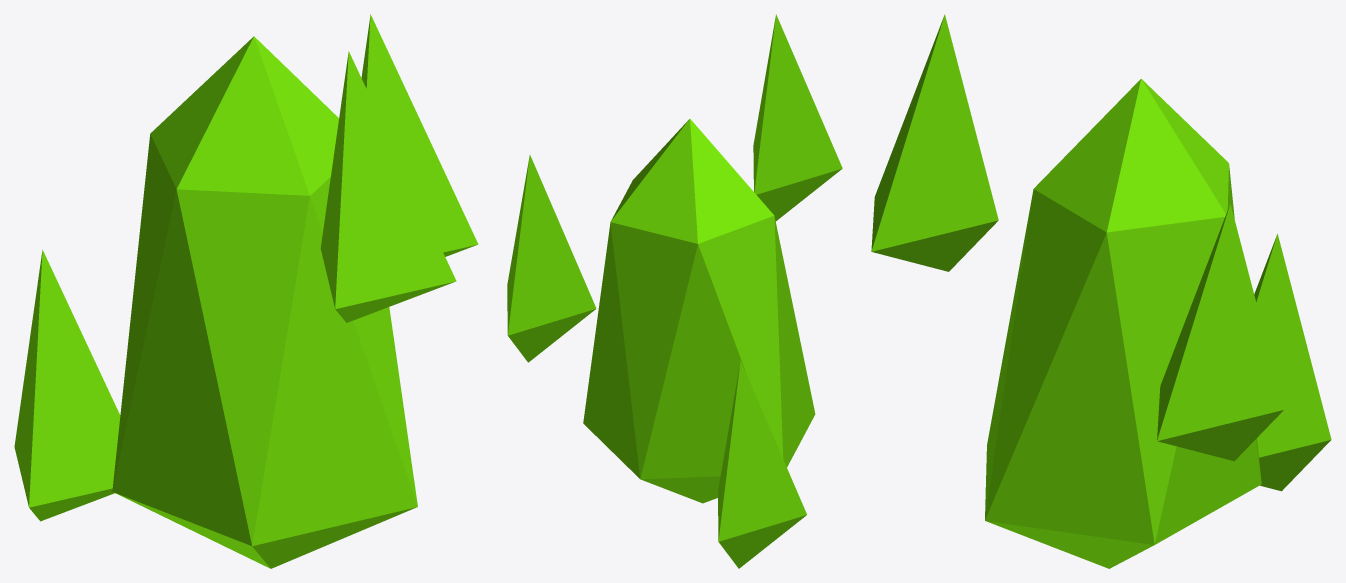
File: chrystal_yellow.FBX
3 views of the same model, side by side, from view 1: azimuth 30°, elevation 25°; view 2: azimuth 150°, elevation 25°; view 3: azimuth 270°, elevation 25° (orthographic). The views are drawn at different scales.
Parts seen in each view (by area): view 1: chrystal_yellow; view 2: chrystal_yellow; view 3: chrystal_yellow.
Part boxes in pixels (<box>): chrystal_yellow: <box>14,14,478,568</box>; chrystal_yellow: <box>507,14,842,568</box>; chrystal_yellow: <box>871,14,1331,568</box>.
Bounding box in the file's own units: 18.7 × 24.7 × 18.71.
